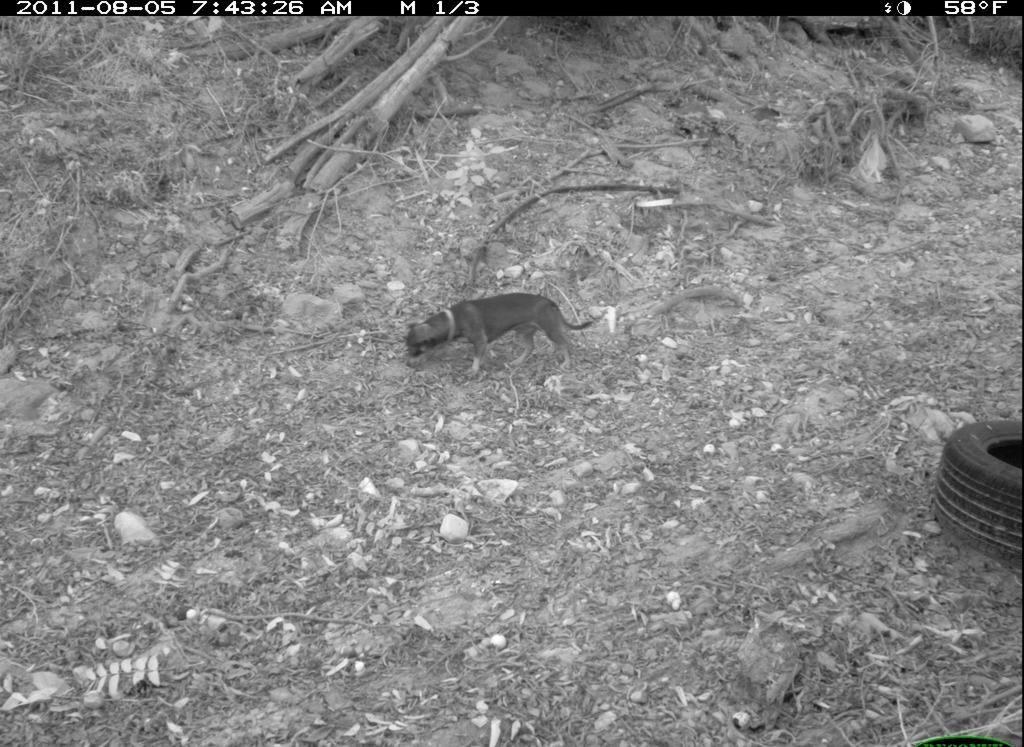dog: (392, 291, 602, 382)
